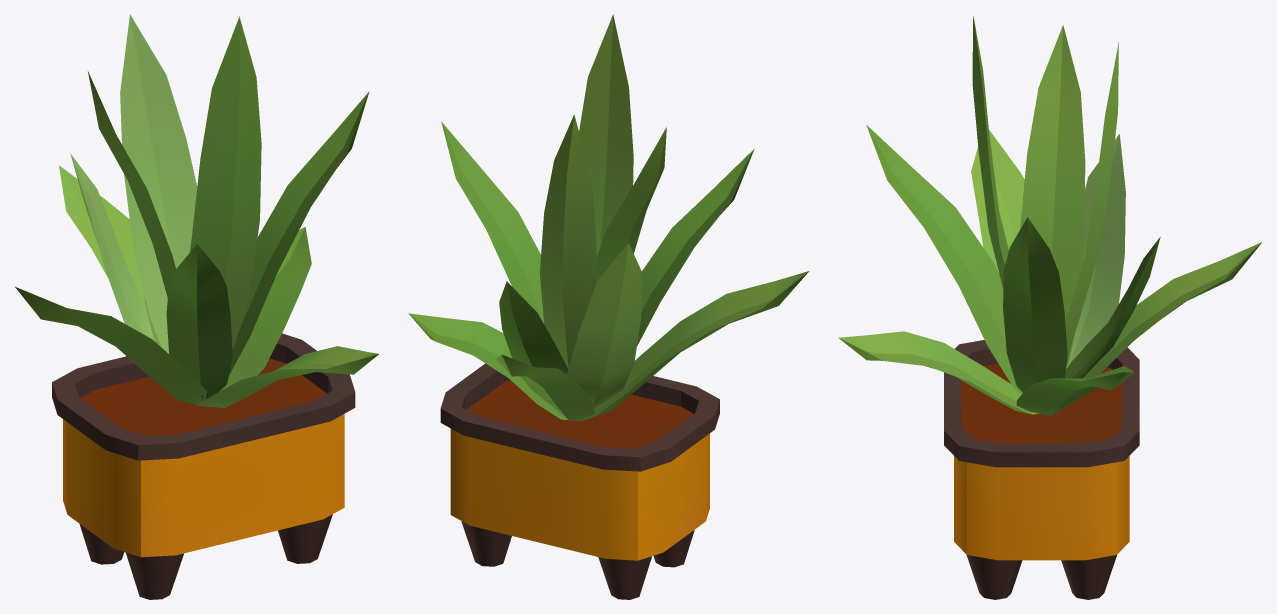
File: GreenPlant.fbx
3 views of the same model, side by side, from view 1: azimuth 30°, elevation 25°; view 2: azimuth 150°, elevation 25°; view 3: azimuth 270°, elevation 25° (orthographic). The views are drawn at different scales.
Parts seen in each view (by area): view 1: Green_Plant; view 2: Green_Plant; view 3: Green_Plant.
Boxes of the visible parts, x1,y1,x2,y2 form: Green_Plant: (14, 14, 378, 599); Green_Plant: (408, 14, 809, 599); Green_Plant: (838, 16, 1262, 599).
Size of the model in its own units: 164 by 235 by 166.
